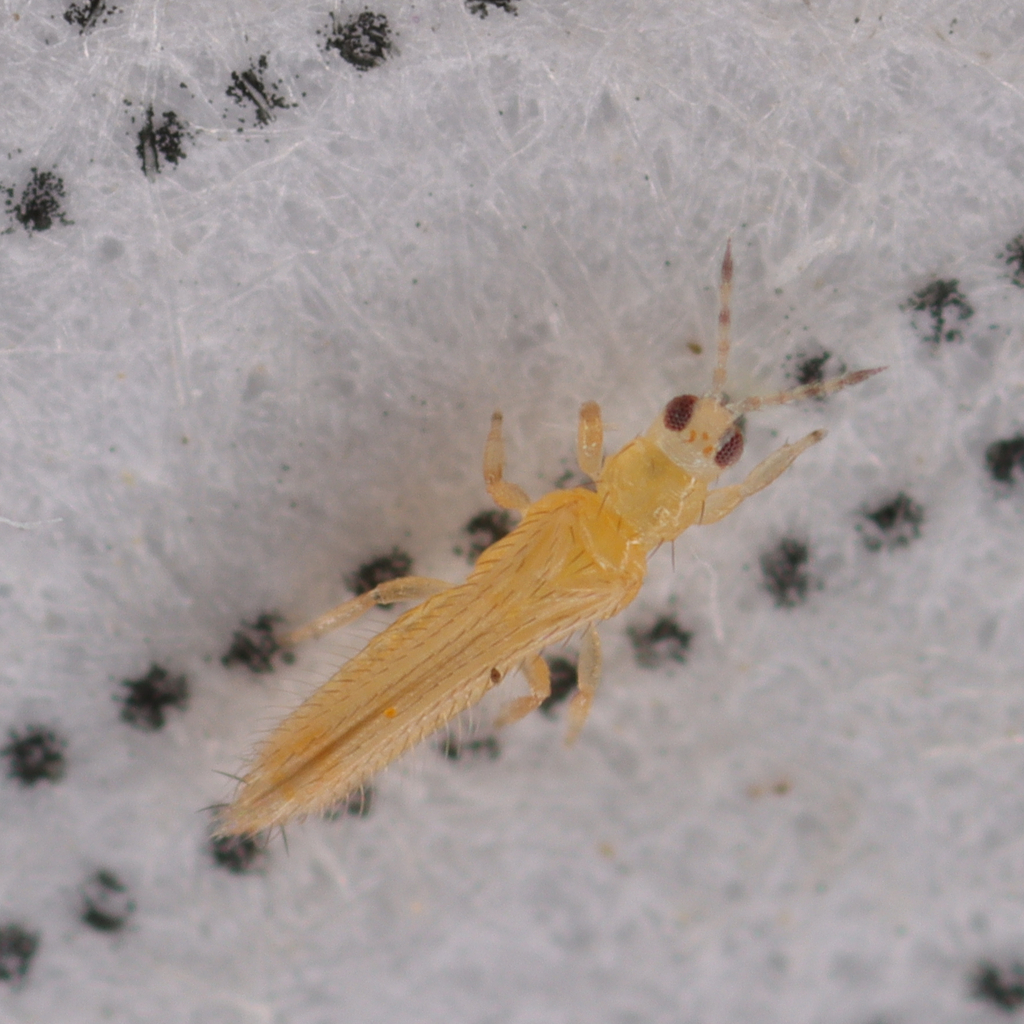tiny_pests: (193, 295, 950, 966)
